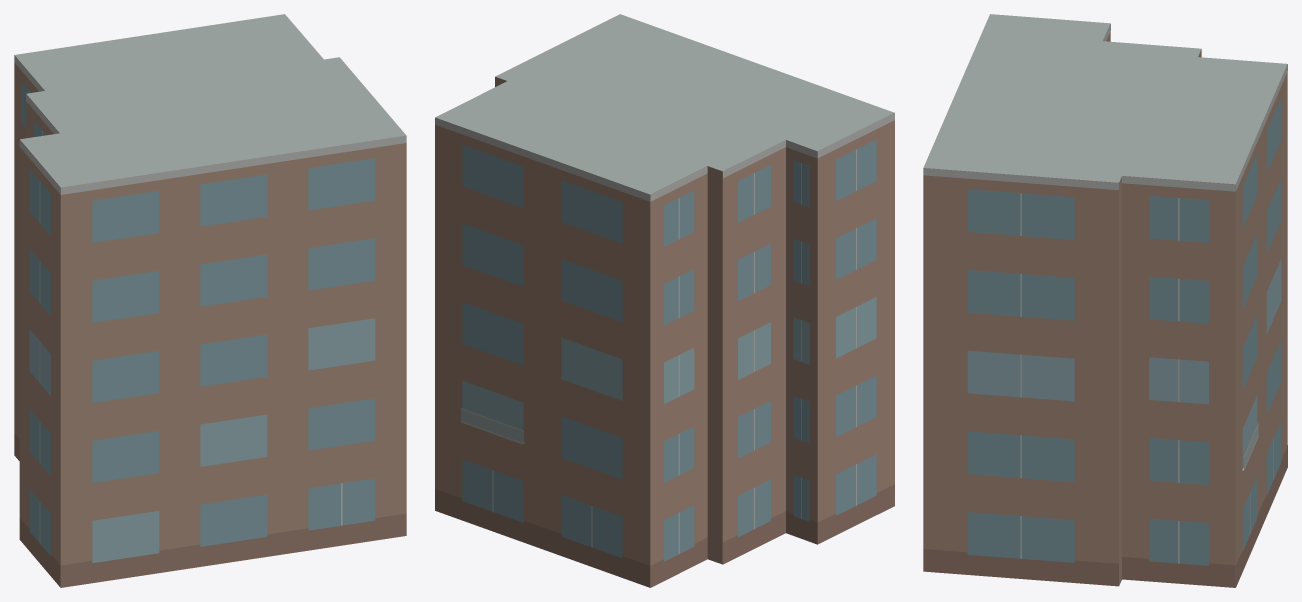
The model's file is survey-upis-32671921.glb.
3 renders of one model, left to right at view 1: azimuth 30°, elevation 25°; view 2: azimuth 150°, elevation 25°; view 3: azimuth 270°, elevation 25°, orthographic. The views are drawn at different scales.
Visible parts, largest first — view 1: survey-upis-32671921.tmp; view 2: survey-upis-32671921.tmp; view 3: survey-upis-32671921.tmp.
Part boxes in pixels (x1=…): survey-upis-32671921.tmp: x1=14, y1=14, x2=406, y2=587; survey-upis-32671921.tmp: x1=435, y1=14, x2=894, y2=587; survey-upis-32671921.tmp: x1=923, y1=14, x2=1287, y2=587.
Bounding box in the file's own units: 12.05 × 13.3 × 10.89.
